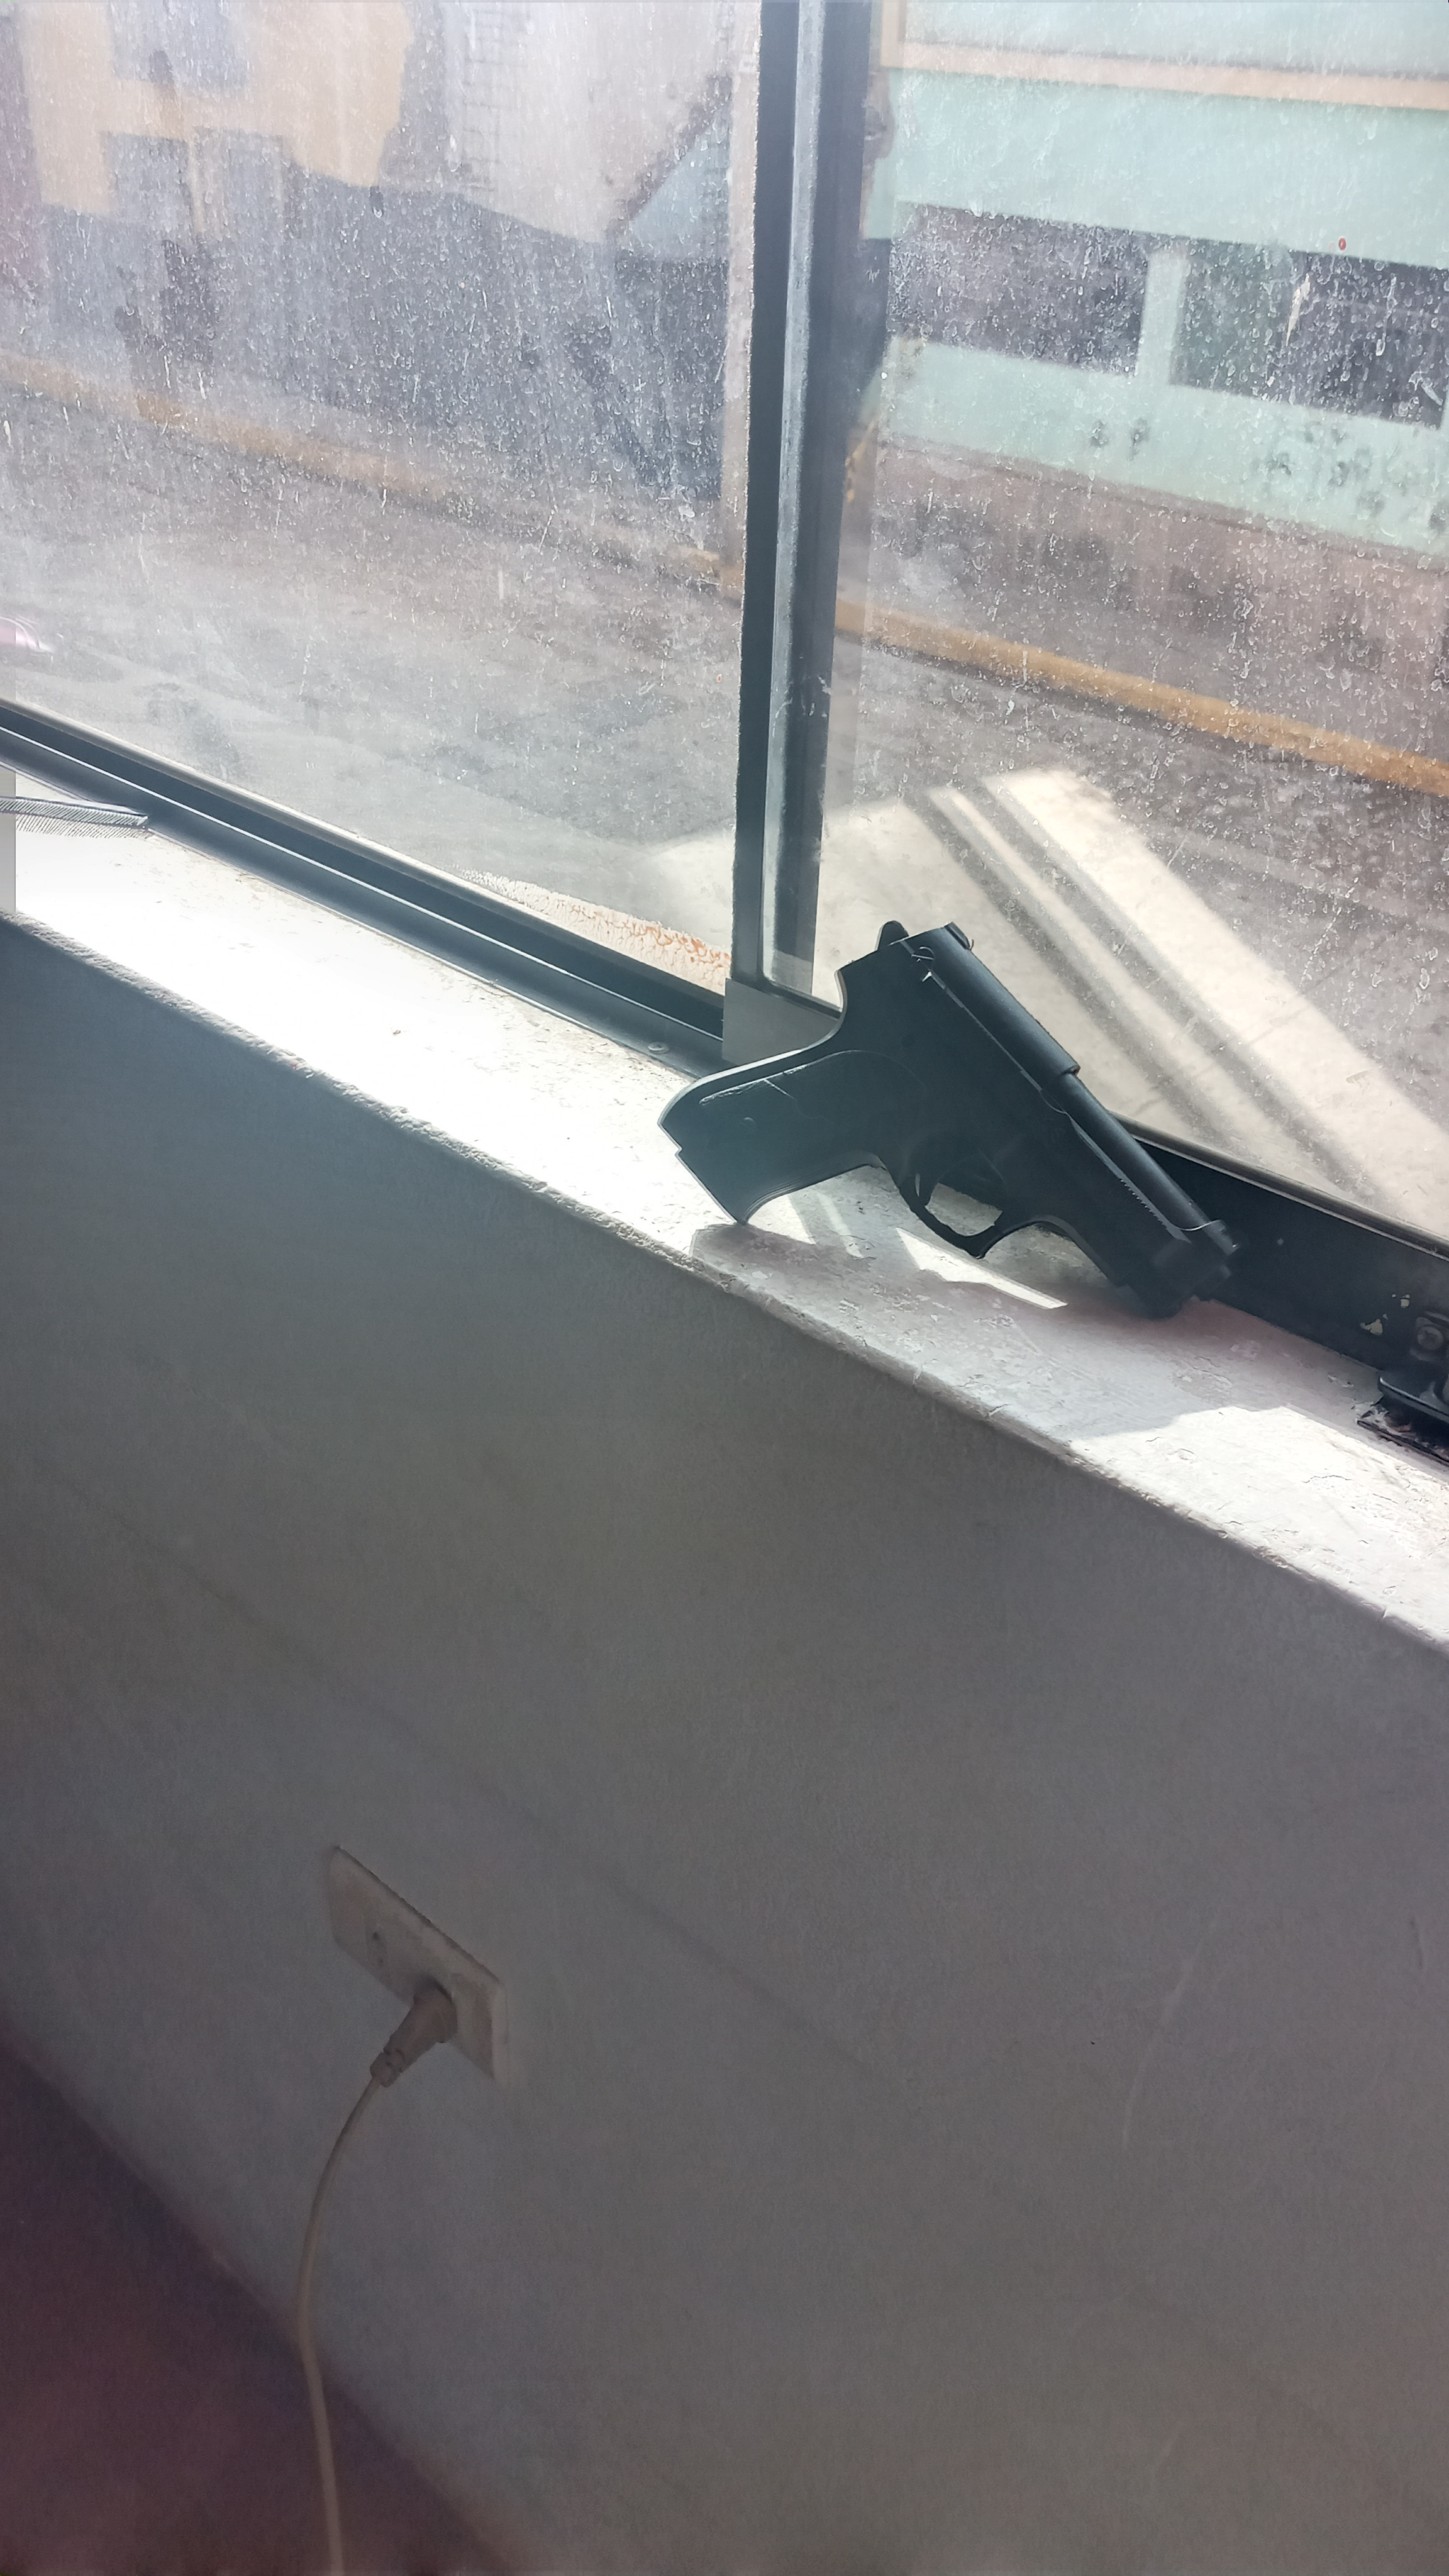Arma: (679, 934, 1233, 1307)
